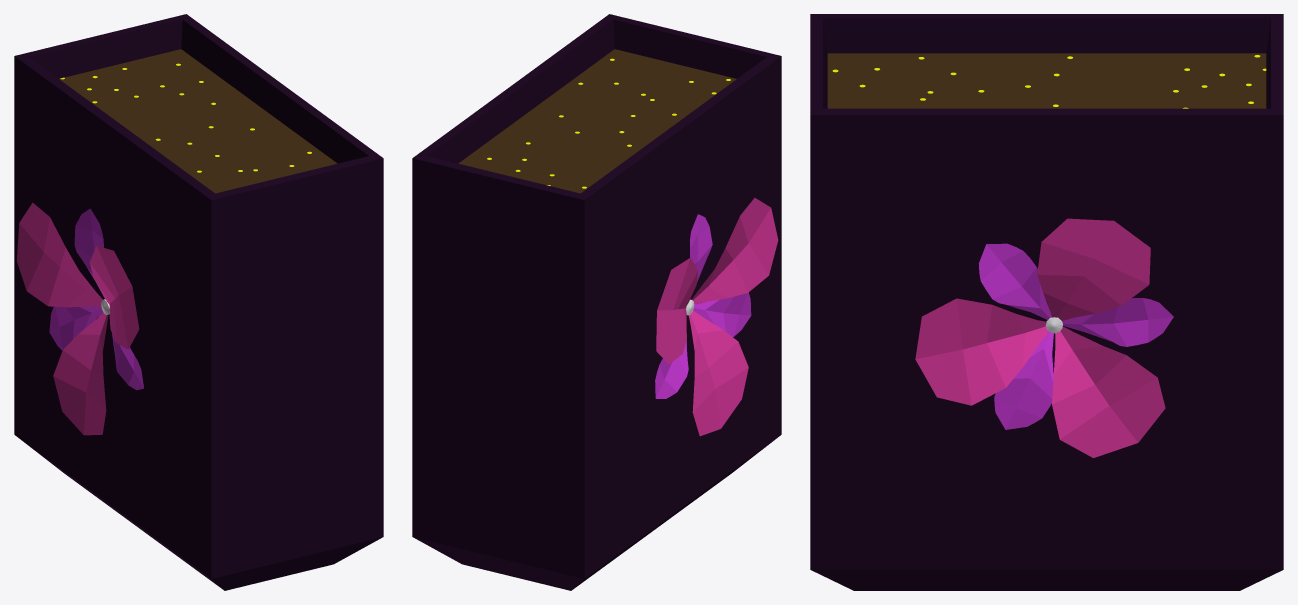
Rendered from Seeds1.fbx.
3 views of the same model, side by side, from view 1: azimuth 30°, elevation 25°; view 2: azimuth 150°, elevation 25°; view 3: azimuth 270°, elevation 25° (orthographic). The views are drawn at different scales.
Parts seen in each view (by area): view 1: Cube, Plane, Circle.004; view 2: Cube, Plane, Circle.004; view 3: Cube, Circle.008, Plane.
Boxes of the visible parts, <box> form: Cube: <box>14,14,383,590</box>; Plane: <box>59,49,337,193</box>; Circle.004: <box>17,202,143,435</box>; Cube: <box>412,14,781,590</box>; Plane: <box>458,49,736,193</box>; Circle.004: <box>655,198,778,436</box>; Cube: <box>810,14,1283,590</box>; Circle.008: <box>915,218,1173,457</box>; Plane: <box>827,53,1266,108</box>.
Size of the model in its own units: 0.5631 by 0.9099 by 0.7882.
